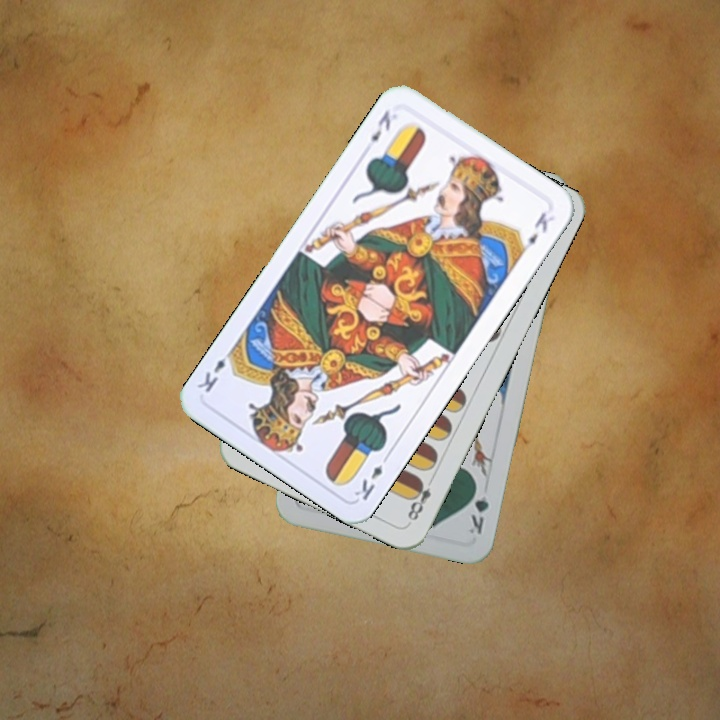E8: (403, 471, 438, 524)
EK: (350, 449, 393, 504), (366, 106, 394, 145)
GK: (464, 479, 492, 537)
